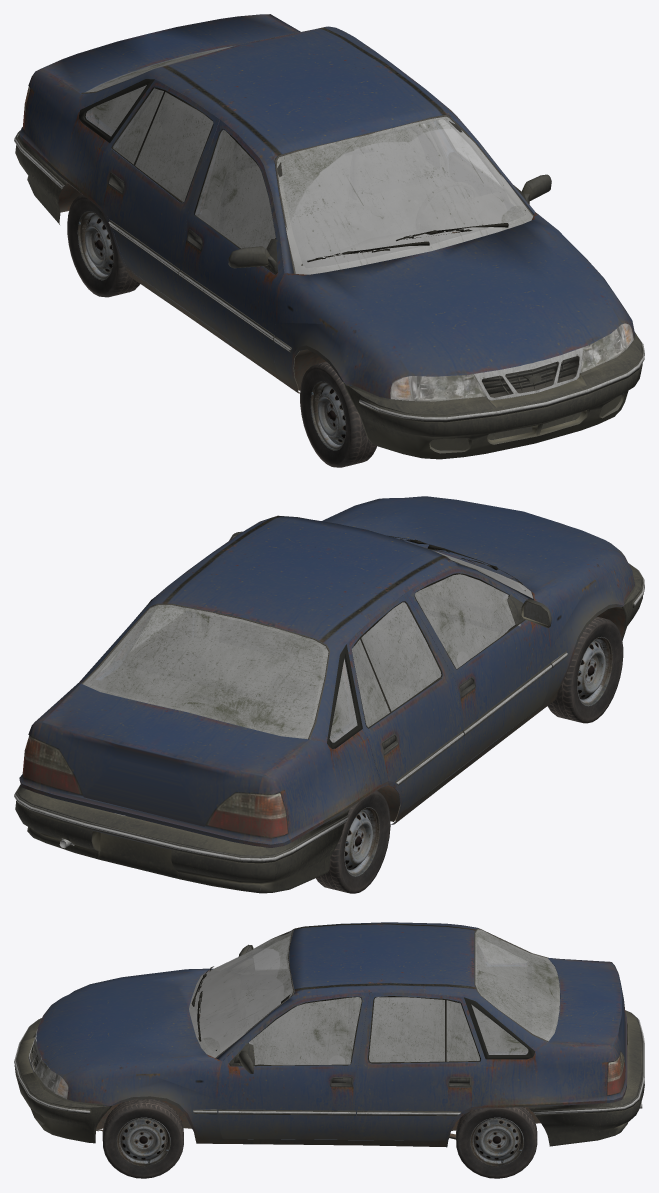
File: daewoo-nexia-cielo.glb
3 renders of one model, top to bottom at view 1: azimuth 30°, elevation 25°; view 2: azimuth 150°, elevation 25°; view 3: azimuth 270°, elevation 25°, orthographic. The views are drawn at different scales.
Visible parts, largest first — view 1: Plane.002_Low, Plane.054, Tire_Low.002, Tire_Low.004, Plane.001; view 2: Plane.002_Low, Plane.054, Tire_Low.002, Tire_Low.004; view 3: Plane.002_Low, Plane.054, Tire_Low.003, Tire_Low.001, Plane.001.
Boxes of the visible parts, left/top/right/bottom form: Plane.002_Low: left=14, top=14, right=644, bottom=459; Plane.054: left=85, top=46, right=532, bottom=274; Tire_Low.002: left=300, top=361, right=376, bottom=467; Tire_Low.004: left=67, top=194, right=139, bottom=297; Plane.001: left=390, top=323, right=633, bottom=401; Plane.002_Low: left=14, top=496, right=644, bottom=893; Plane.054: left=83, top=551, right=532, bottom=742; Tire_Low.002: left=547, top=617, right=623, bottom=723; Tire_Low.004: left=316, top=790, right=390, bottom=893; Plane.002_Low: left=14, top=922, right=644, bottom=1147; Plane.054: left=189, top=929, right=559, bottom=1057; Tire_Low.003: left=102, top=1099, right=183, bottom=1178; Tire_Low.001: left=456, top=1107, right=537, bottom=1178; Plane.001: left=35, top=1059, right=68, bottom=1098.
Size of the model in its own units: 1.85 by 1.3 by 4.14.
3 materials, 3 textured.
